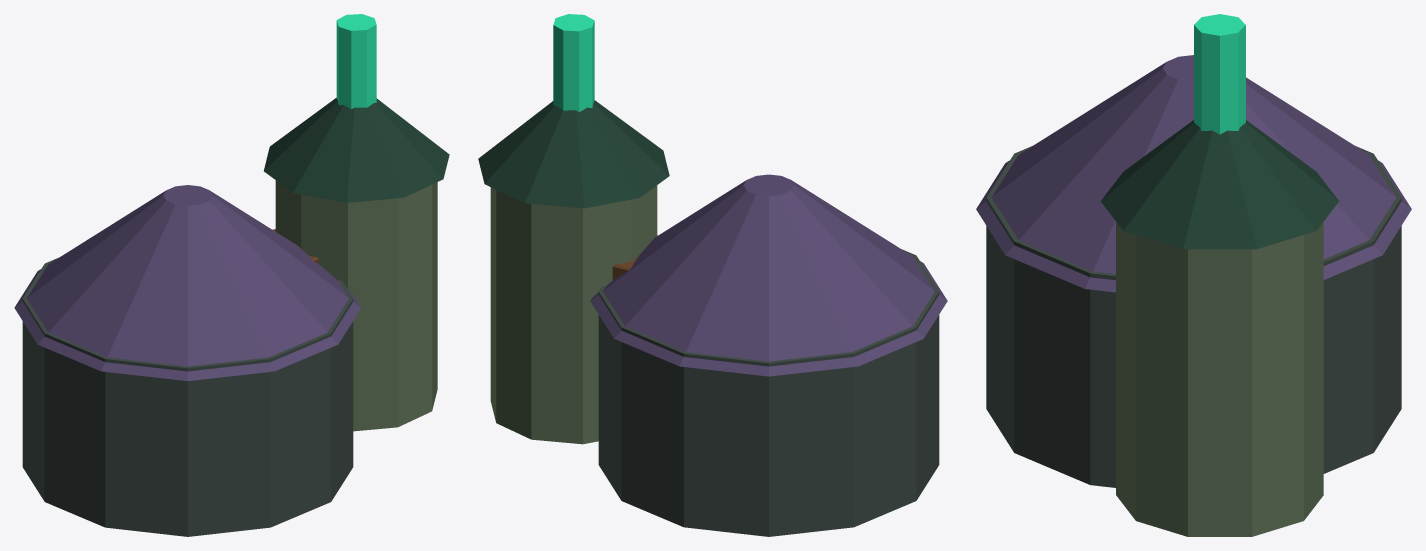
Rendered from LumenSunmossObservatoryV2.glb.
3 renders of one model, left to right at view 1: azimuth 30°, elevation 25°; view 2: azimuth 150°, elevation 25°; view 3: azimuth 270°, elevation 25°, orthographic. The views are drawn at different scales.
Parts seen in each view (by area): view 1: LumenSunmossObservatoryV2; view 2: LumenSunmossObservatoryV2; view 3: LumenSunmossObservatoryV2.
Boxes of the visible parts, <box> form: LumenSunmossObservatoryV2: <box>14,14,449,536</box>; LumenSunmossObservatoryV2: <box>478,14,947,536</box>; LumenSunmossObservatoryV2: <box>976,14,1411,536</box>.
Bounding box in the file's own units: 22.77 × 21 × 16.8.
Materials: 1 (1 with a texture image).
